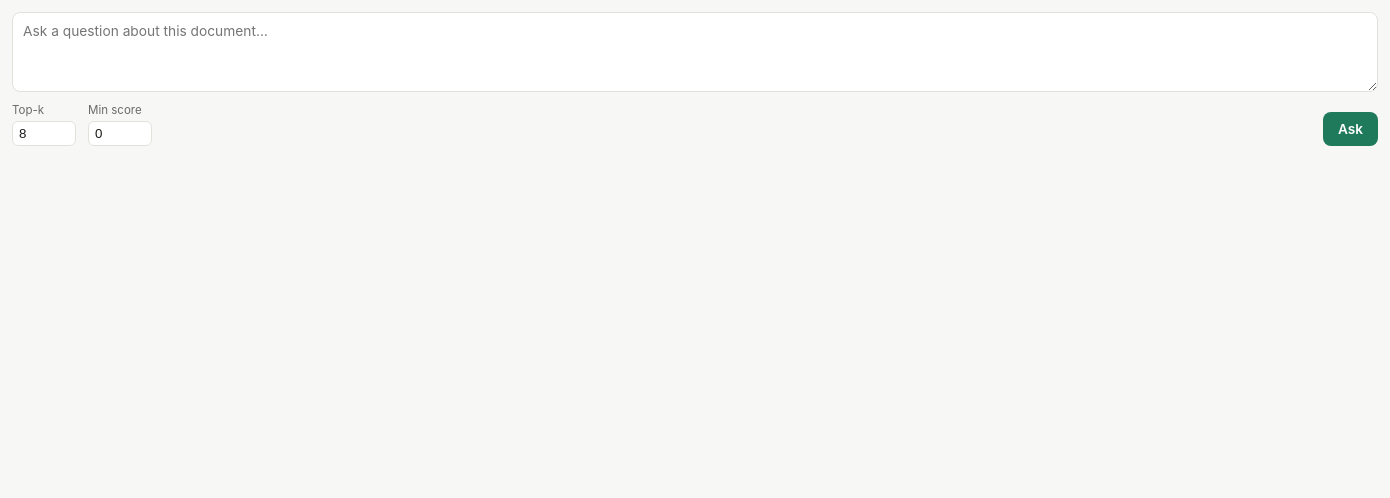
Test: AskPanel › renders the answer, context, and citations on success
The width and height of the screenshot is (1390, 498).
Type "What is the dimension?" into the text box with placeholder "Ask a question about this document…" at point(695, 52), box [12,12,1378,92]
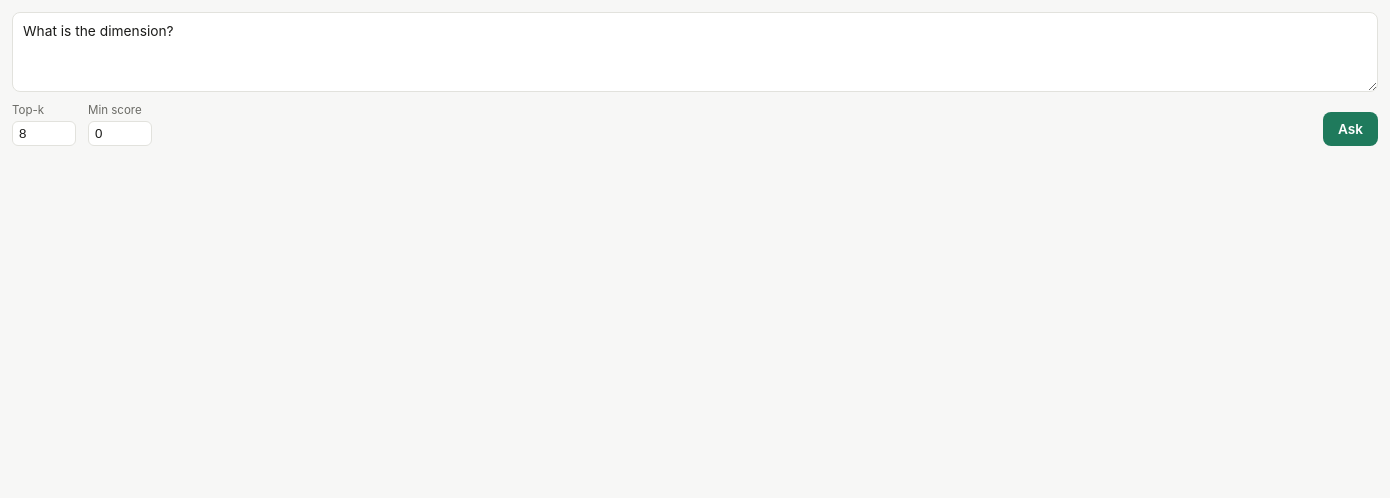
Click the button "Ask" at point(1350, 129), box [1323,112,1378,146]
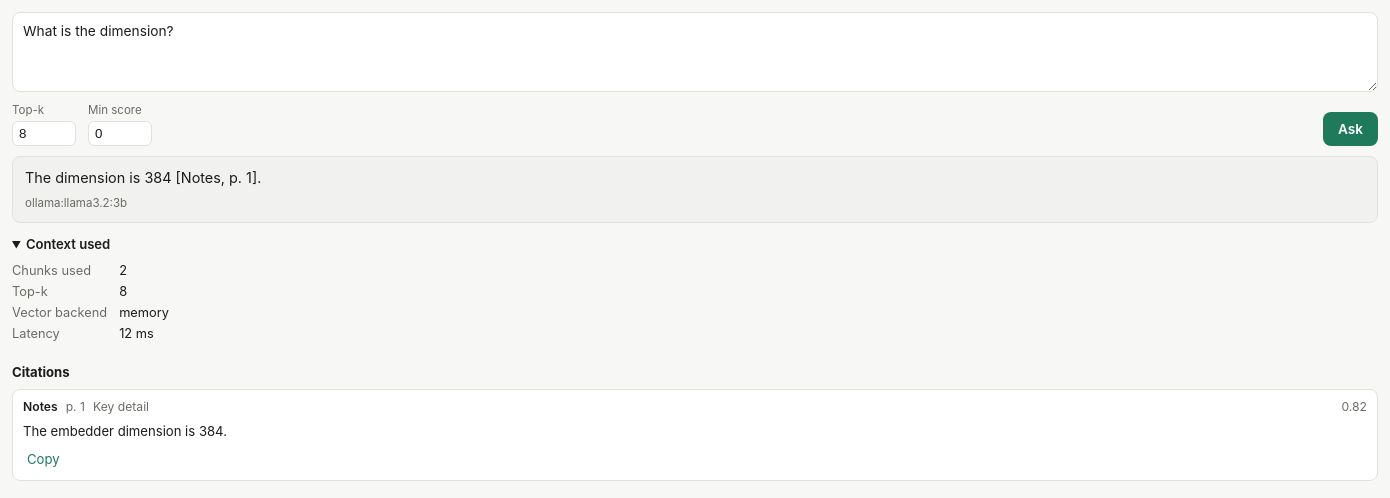
Expected: the text "The dimension is 384 [Notes, p. 1]." is shown, [25,169,261,186]
Expected: the text "Notes" is shown, [23,398,58,416]
Expected: the text "Chunks used" is shown, [12,263,91,278]
